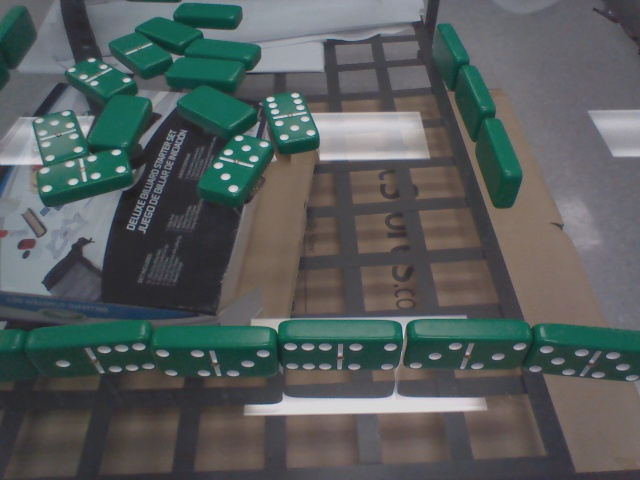A: (172, 84, 258, 137), (88, 89, 152, 158), (165, 53, 245, 87), (134, 13, 196, 48), (171, 3, 245, 30), (188, 35, 261, 61)
B: (196, 129, 268, 209), (31, 150, 137, 204), (257, 91, 324, 160), (102, 20, 174, 81), (60, 46, 137, 101), (22, 106, 91, 163)
C: (1, 9, 36, 67)
D: (466, 117, 527, 218), (447, 66, 507, 143), (422, 24, 478, 91)
E: (276, 311, 405, 380), (403, 315, 527, 381), (148, 325, 279, 386), (531, 318, 640, 390), (22, 323, 156, 381)
